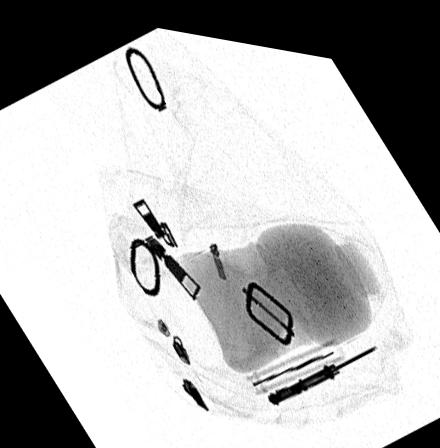Knife: (265, 330, 378, 395), (246, 327, 342, 384)
